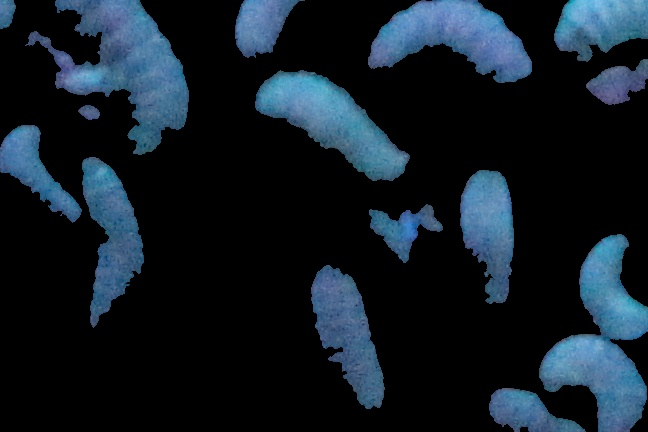larvae: (50, 1, 190, 152), (257, 75, 408, 187), (80, 154, 165, 324), (368, 1, 534, 86), (309, 263, 388, 412), (539, 330, 647, 432), (1, 124, 83, 228), (578, 233, 648, 341), (461, 169, 512, 314), (552, 1, 648, 63), (487, 383, 582, 432), (233, 1, 305, 63)
